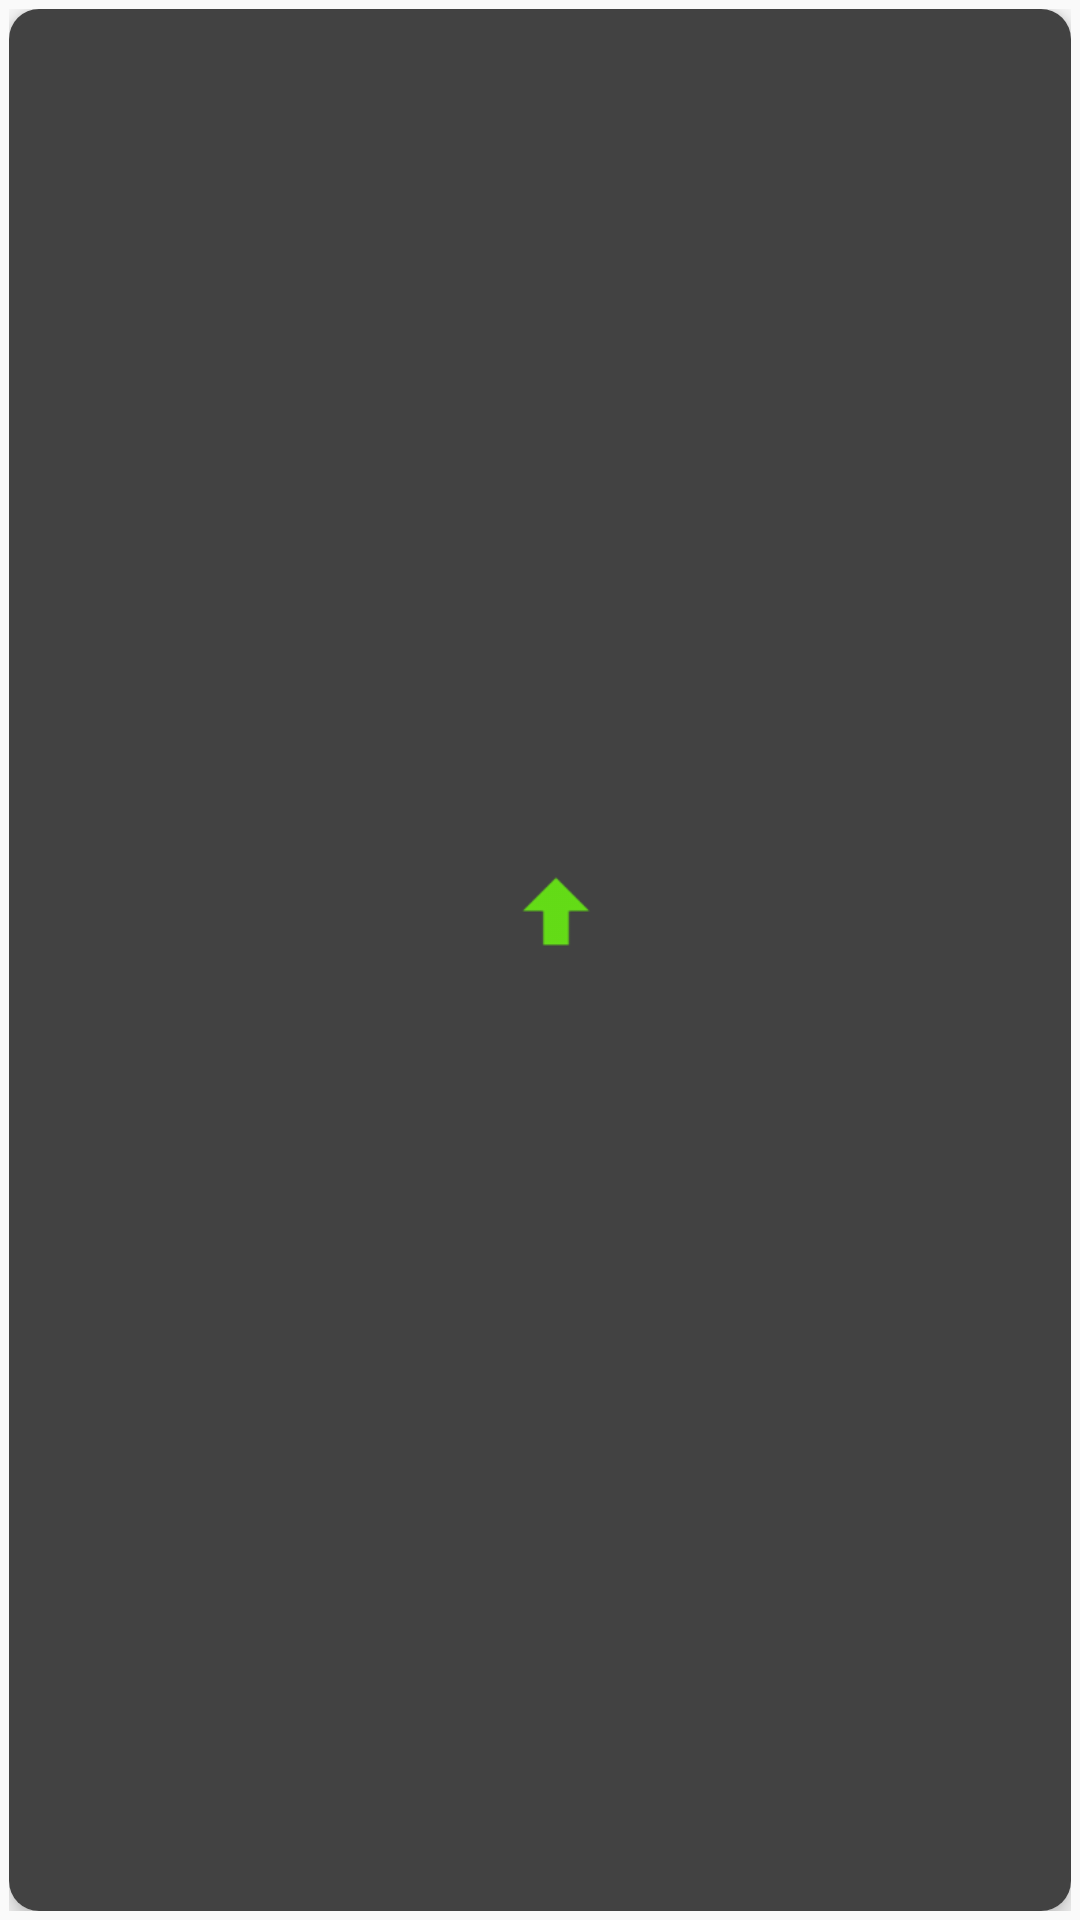

Named icons in this screenshot (1080x1920) and their centers, (x,y):
arrow up: (556,911)
